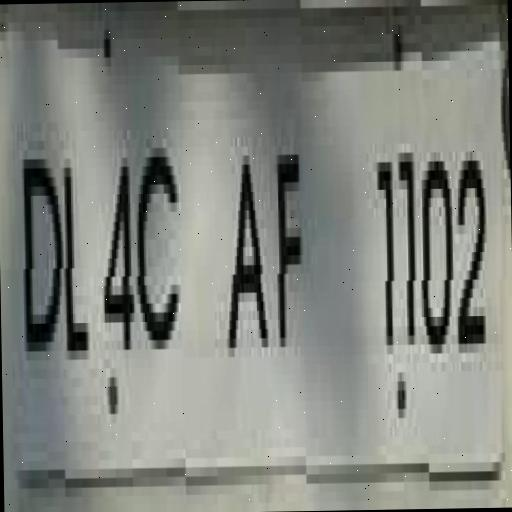number plate: (0, 4, 490, 506)
